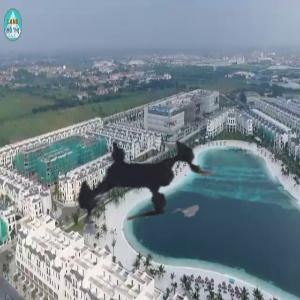drone: (34, 70, 255, 291)
